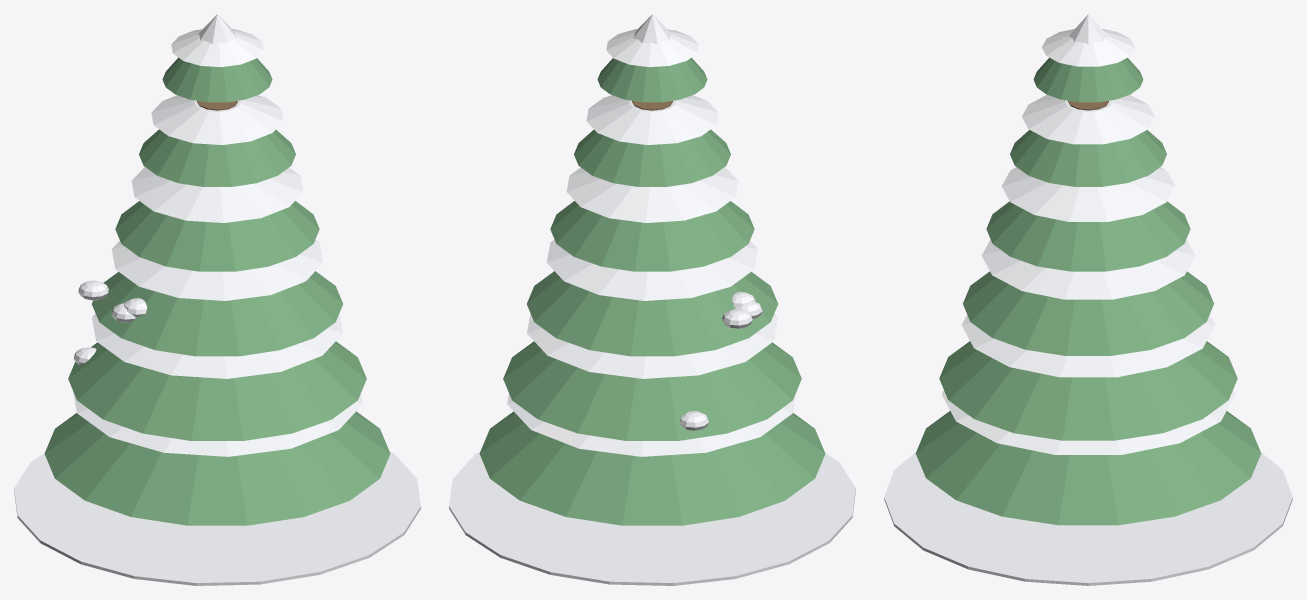
File: snow_pine.glb
3 views of the same model, side by side, from view 1: azimuth 30°, elevation 25°; view 2: azimuth 150°, elevation 25°; view 3: azimuth 270°, elevation 25° (orthographic).
Parts seen in each view (by area): view 1: snow_pine; view 2: snow_pine; view 3: snow_pine.
Boxes of the visible parts, box(x1,y1,x2,y2) form: snow_pine: box(14, 14, 420, 585); snow_pine: box(449, 14, 855, 585); snow_pine: box(884, 14, 1292, 585).
Size of the model in its own units: 2.6 by 3.41 by 2.6.
